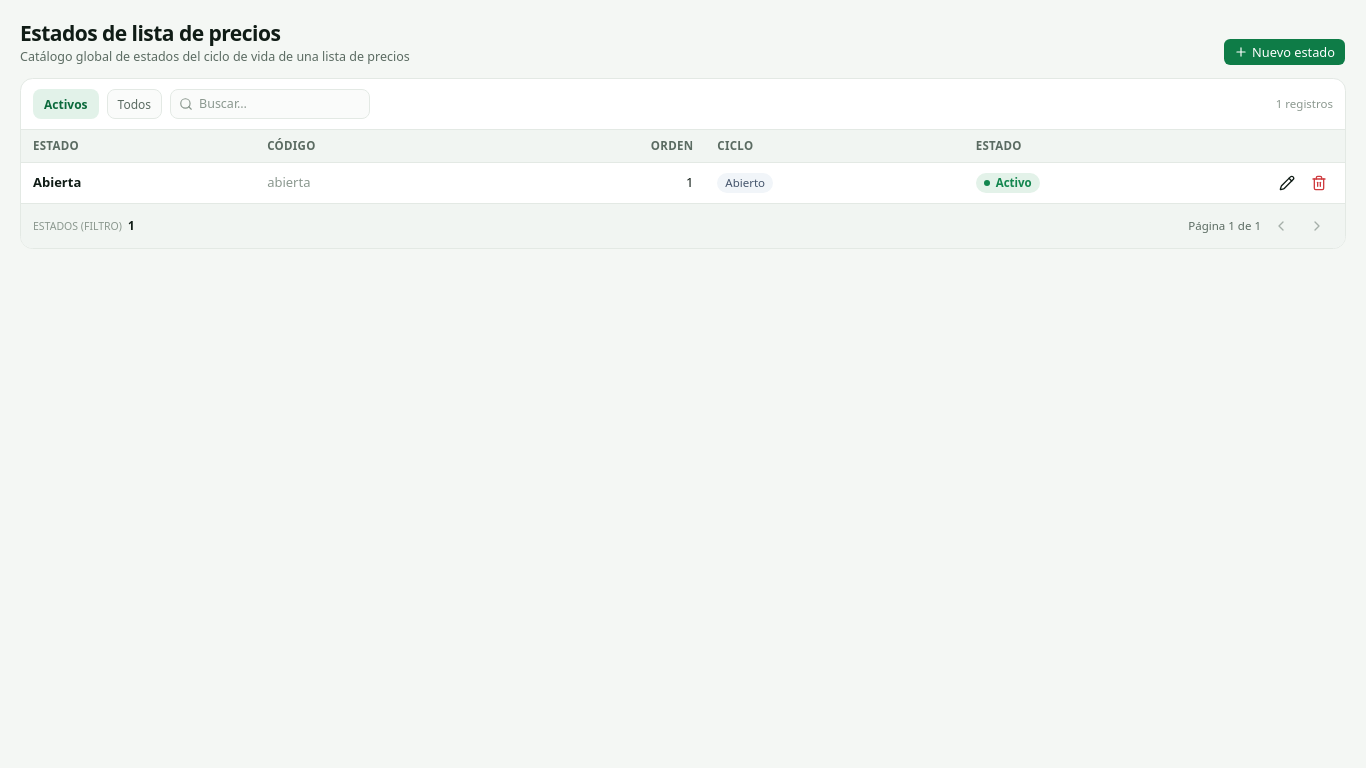
Scenario: <EstadosListaPagina> › un admin puede marcar "es de cierre" al dar de alta
Click the button with test id "nuevo-estado-lista" at (1285, 52), box [1223,38,1346,66]
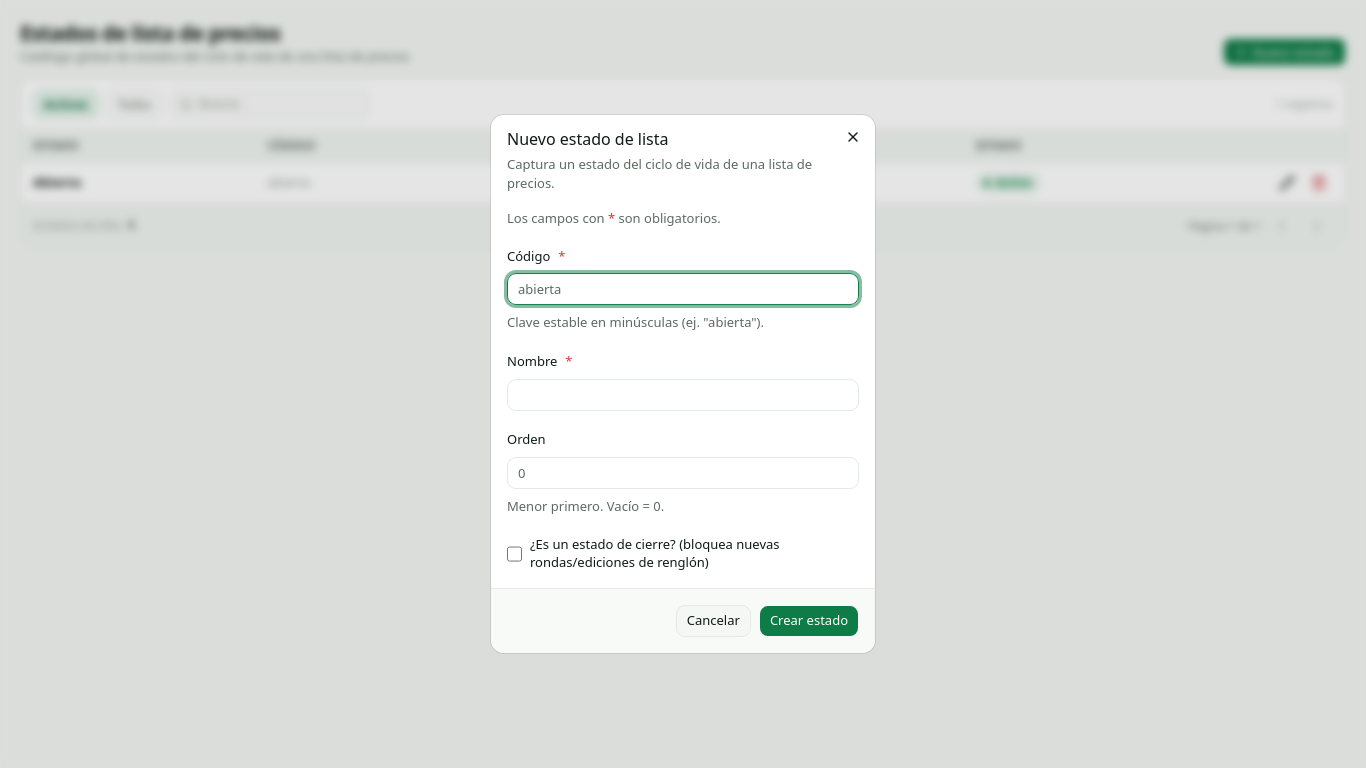
Expected: the checkbox with test id "el-es-cierre" is not checked, [507,546,522,562]
